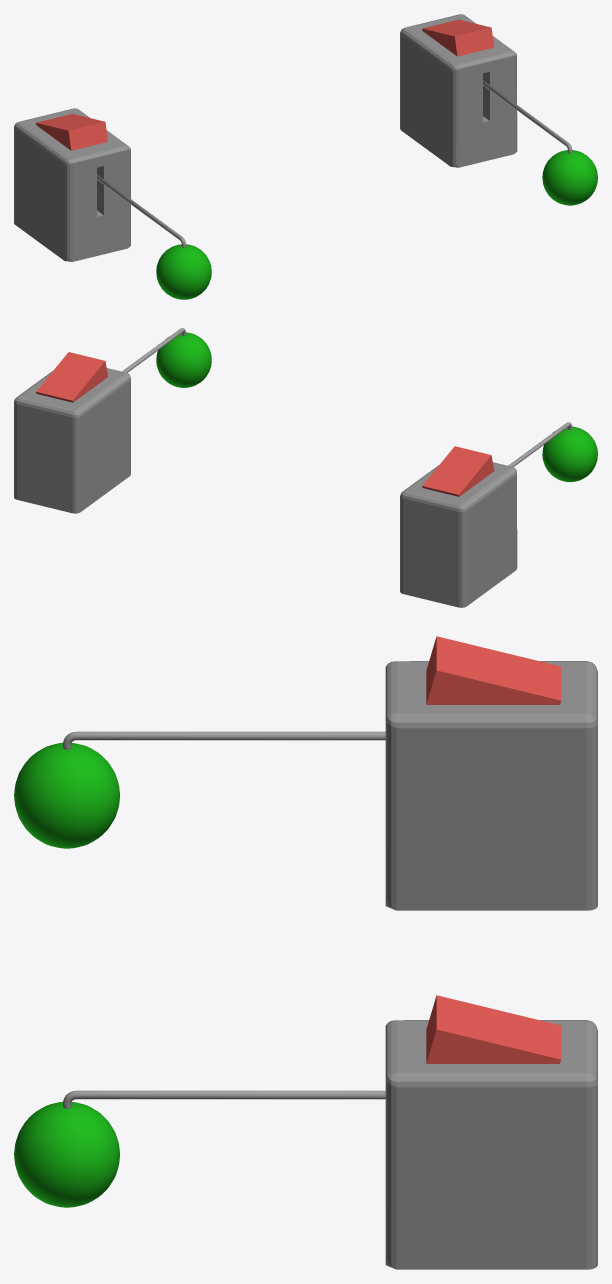
Rendered from waveGenerators.glb.
3 views of the same model, one above another, from view 1: azimuth 30°, elevation 25°; view 2: azimuth 150°, elevation 25°; view 3: azimuth 270°, elevation 25° (orthographic). The views are drawn at different scales.
Parts seen in each view (by area): view 1: switchBox1, switchBox2, ball2, ball1, switch1, switch2; view 2: switchBox2, switchBox1, ball1, ball2, switch1, switch2; view 3: switchBox2, switchBox1, ball2, ball1, switch1, switch2.
Boxes of the visible parts, x1,y1,x2,y2 form: switchBox1: (400, 14, 517, 167); switchBox2: (14, 108, 130, 261); ball2: (97, 174, 211, 299); ball1: (483, 80, 597, 205); switch1: (422, 19, 494, 56); switch2: (36, 113, 107, 150); switchBox2: (400, 462, 517, 607); switchBox1: (14, 368, 130, 513); ball1: (122, 328, 211, 387); ball2: (508, 422, 597, 482); switch1: (36, 352, 107, 402); switch2: (422, 446, 494, 496); switchBox2: (385, 661, 597, 910); switchBox1: (385, 1020, 597, 1269); ball2: (14, 731, 385, 848); ball1: (14, 1090, 385, 1207); switch1: (426, 995, 561, 1063); switch2: (426, 636, 561, 704).
Size of the model in its own units: 4.68 by 1.18 by 2.75.
